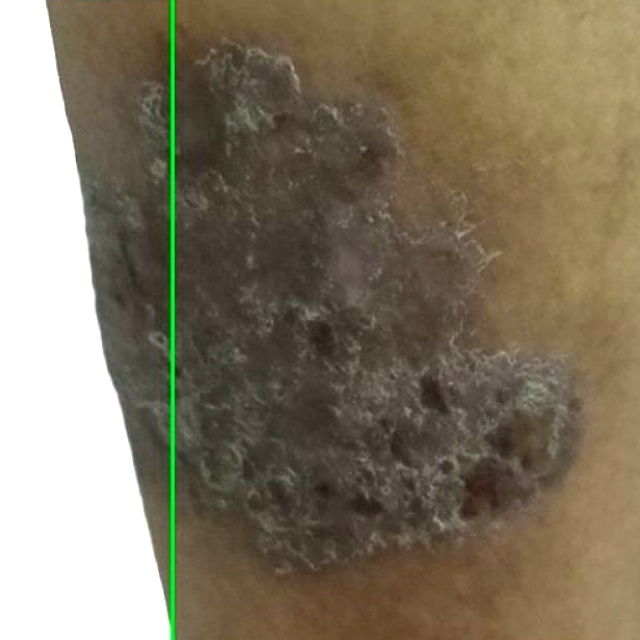Eczema: (0, 0, 172, 639)
